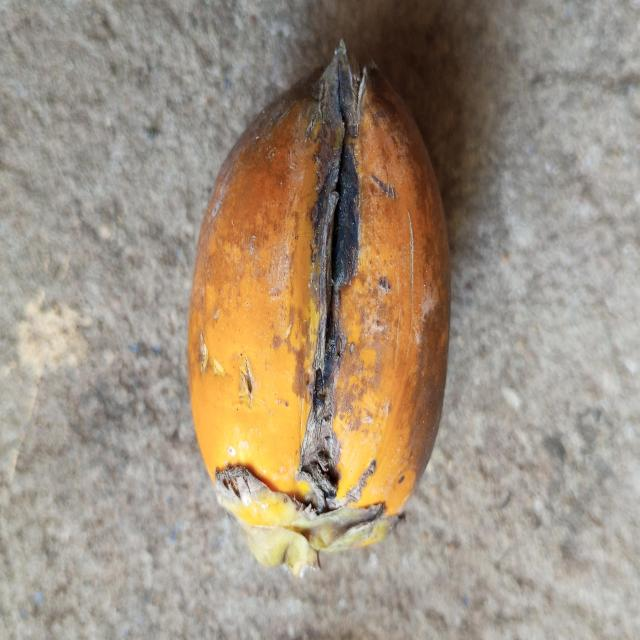damaged: (187, 44, 452, 576)
